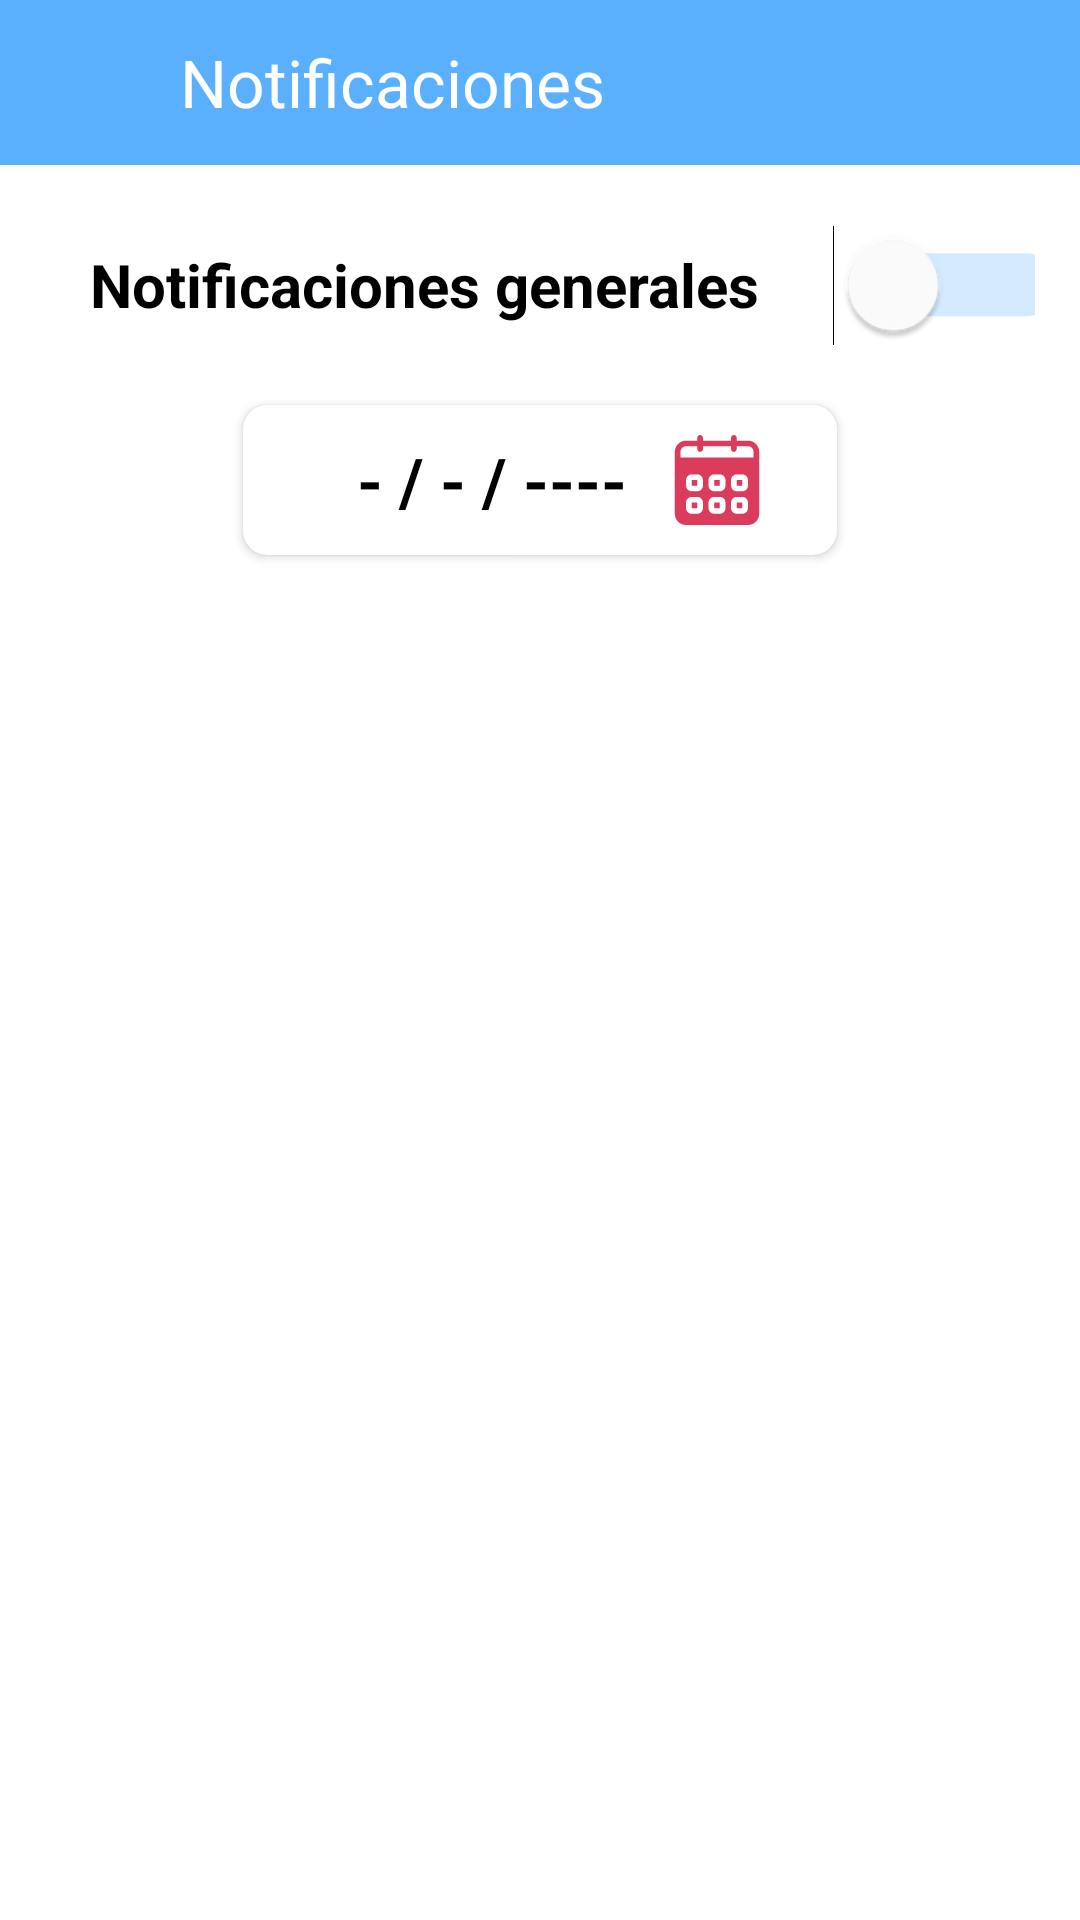

Icon bounding boxes for this 1080w x 1920h phone screenshot, format (x1, y1, x2, y2):
calendar: (674, 435, 760, 525)
